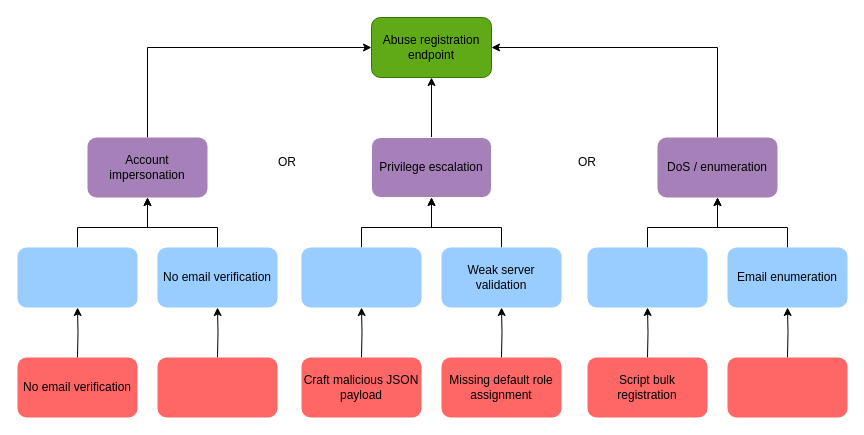
The diagram is 864 pixels wide and 435 high, and some of its shapes have lost their labels. The shapes that lost their labels are listed below. From the top down, each one's centre as x and y in pixels, then its label:
point (77, 277): Register with victim's email
point (361, 277): Inject role in payload
point (647, 277): Flood endpoint with fake users
point (217, 387): Claim existing account
point (787, 387): Prob error messages
